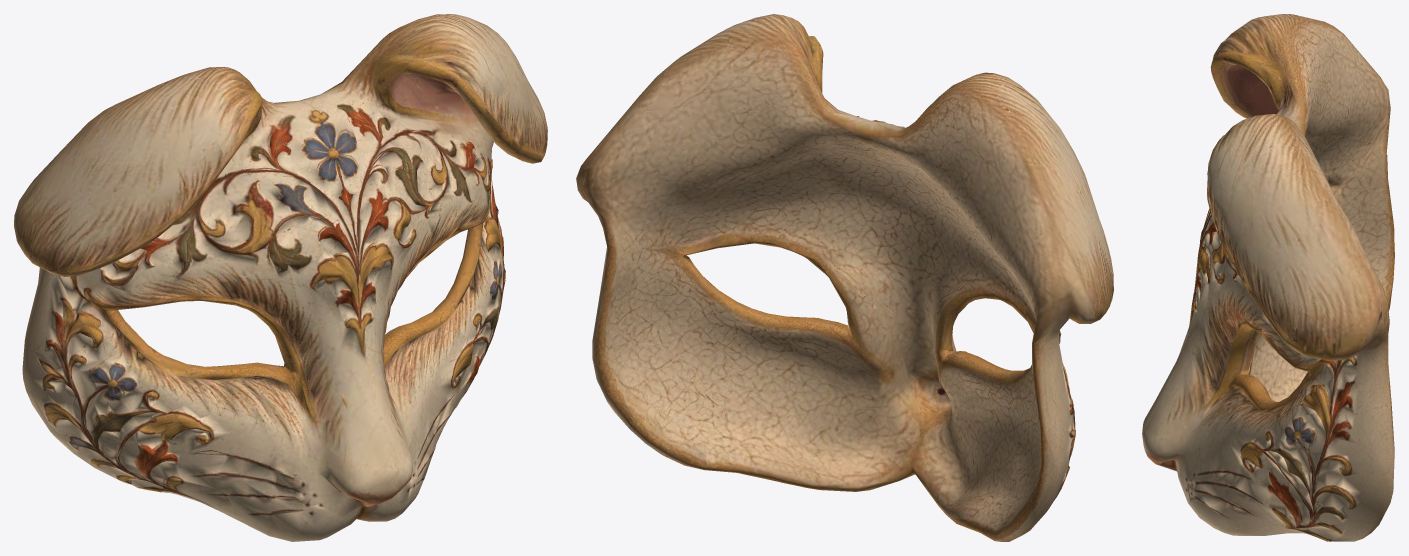
3 views of the same model, side by side, from view 1: azimuth 30°, elevation 25°; view 2: azimuth 150°, elevation 25°; view 3: azimuth 270°, elevation 25° (orthographic). The views are drawn at different scales.
Size of the model in its own units: 1.9 by 1.65 by 0.8489.
1 material, 1 textured.
